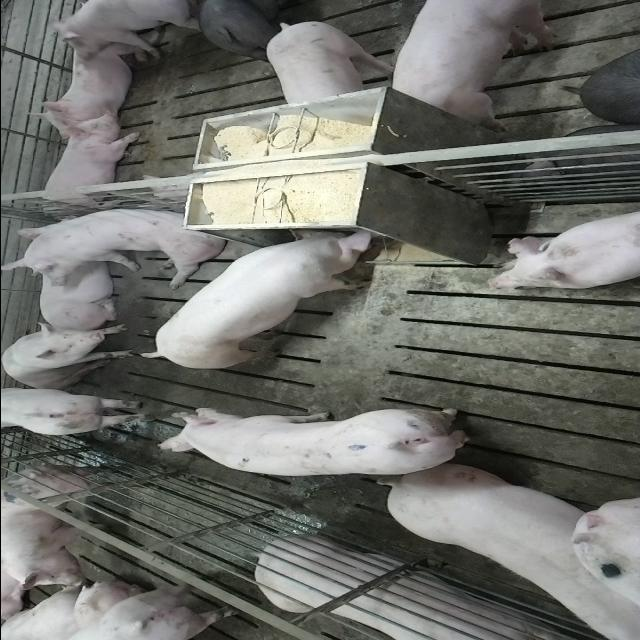Feeding: (143, 220, 379, 366)
Sitting: (3, 201, 226, 285), (1, 323, 137, 389)
Standing: (153, 406, 478, 480), (385, 1, 565, 127), (0, 460, 127, 583), (264, 19, 396, 105), (44, 1, 204, 56), (2, 385, 152, 438), (192, 1, 313, 56)
Sternal_lying: (248, 538, 578, 640), (485, 208, 640, 292), (25, 215, 127, 328), (29, 41, 147, 137), (31, 116, 140, 216)
